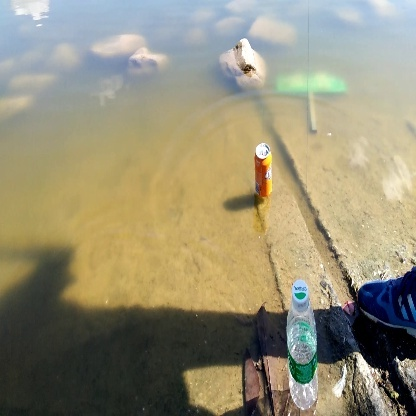bottle: (283, 281, 320, 408), (249, 138, 274, 198)
